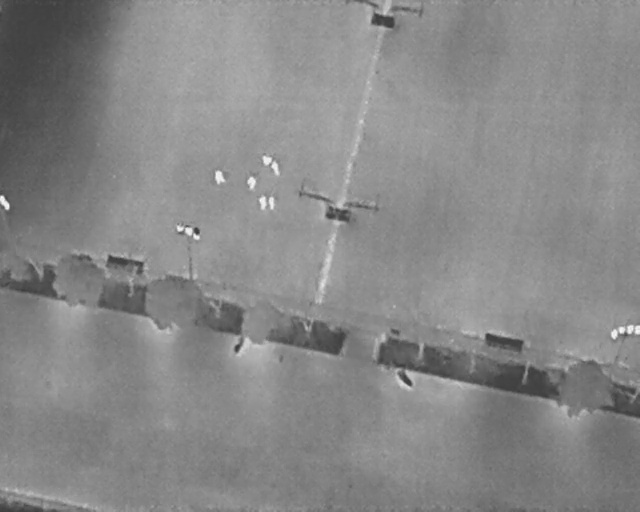Person: (214, 169, 225, 185), (270, 160, 280, 177), (259, 195, 267, 211), (247, 177, 256, 191), (262, 155, 272, 167), (269, 196, 275, 210)
